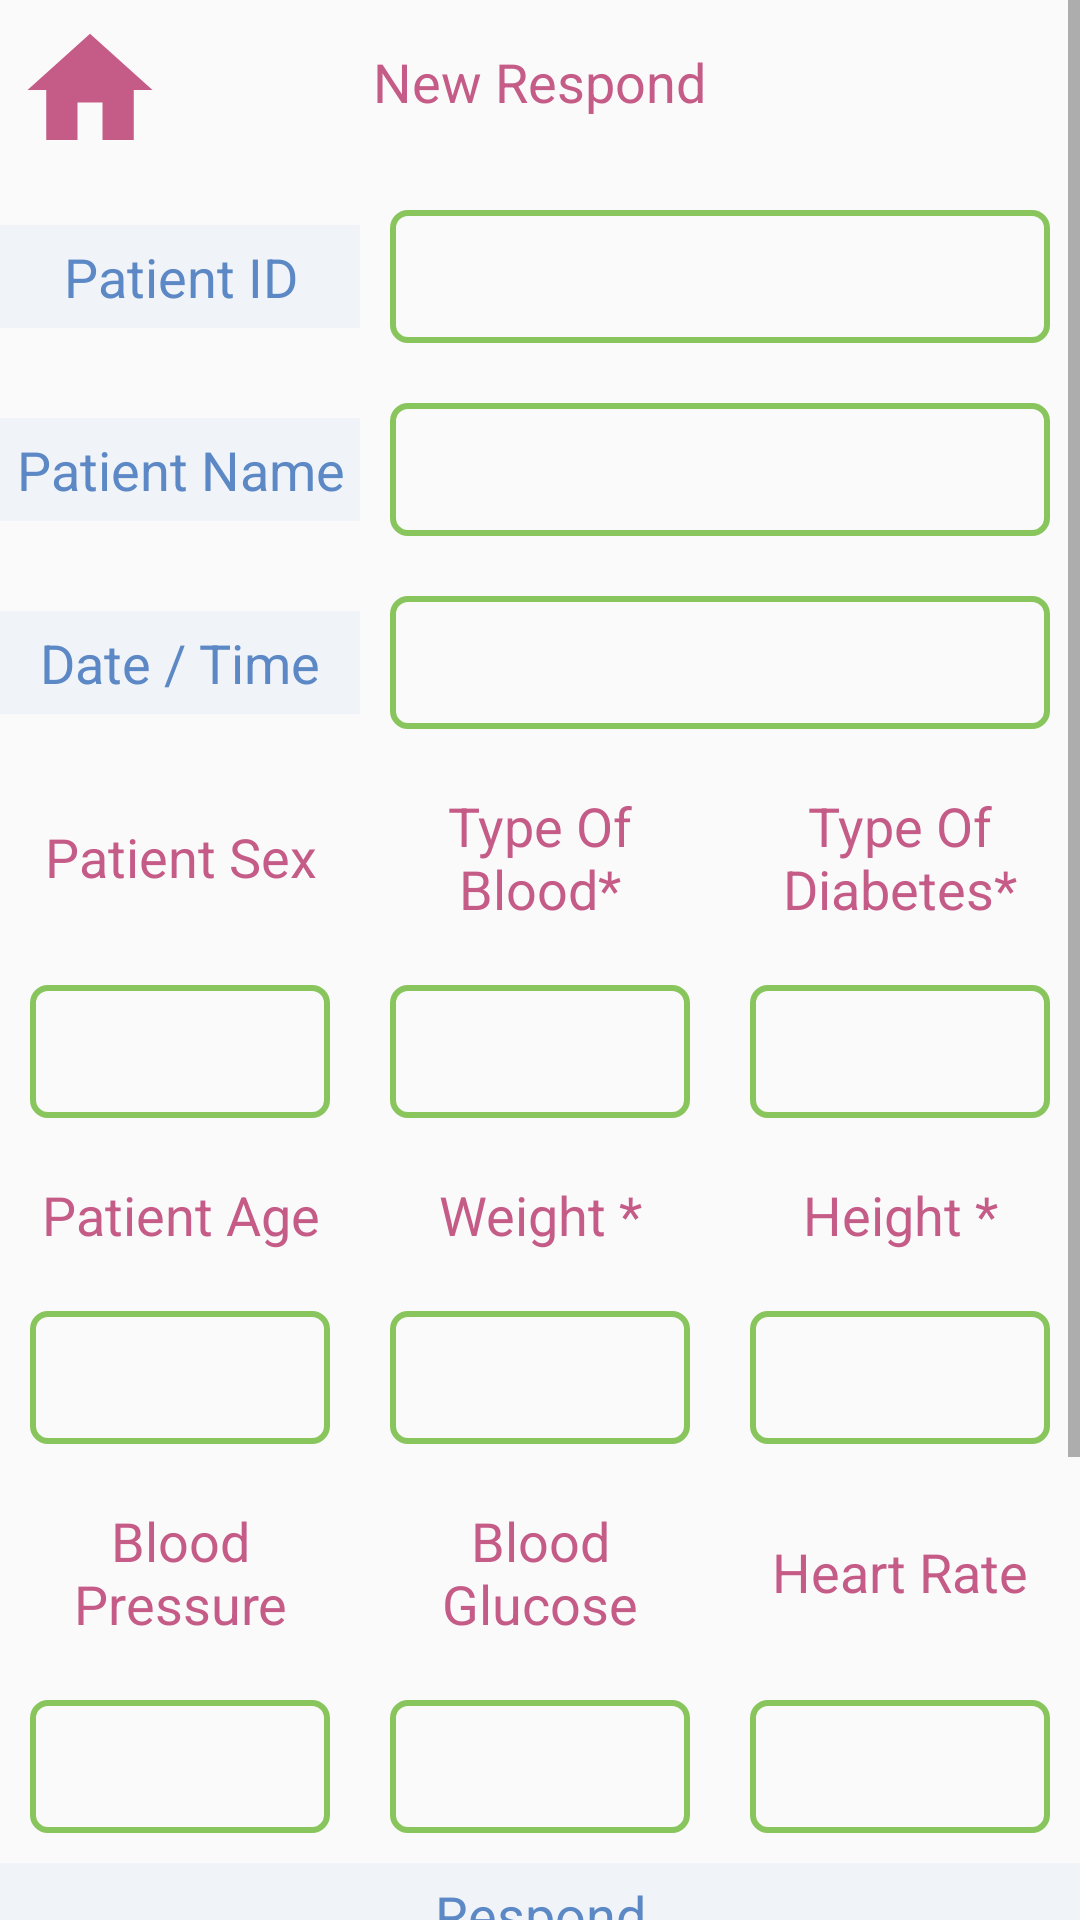

Where to tap for icons on this 1080w x 1920h app screen, as [x,y]:
home page: [90,87]
